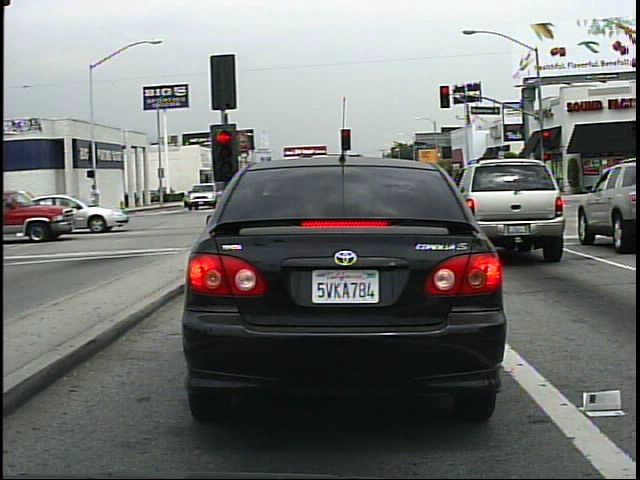person: (87, 183, 109, 218)
